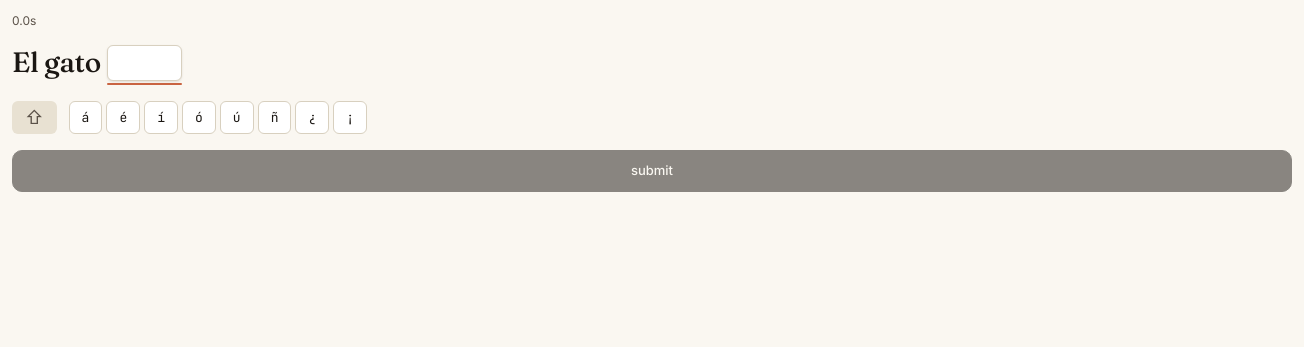
FluencyRunner › ignores a second submit click while the first is in flight
Step 1. Type "está" into the field → (144, 63), box [107,45,182,81]
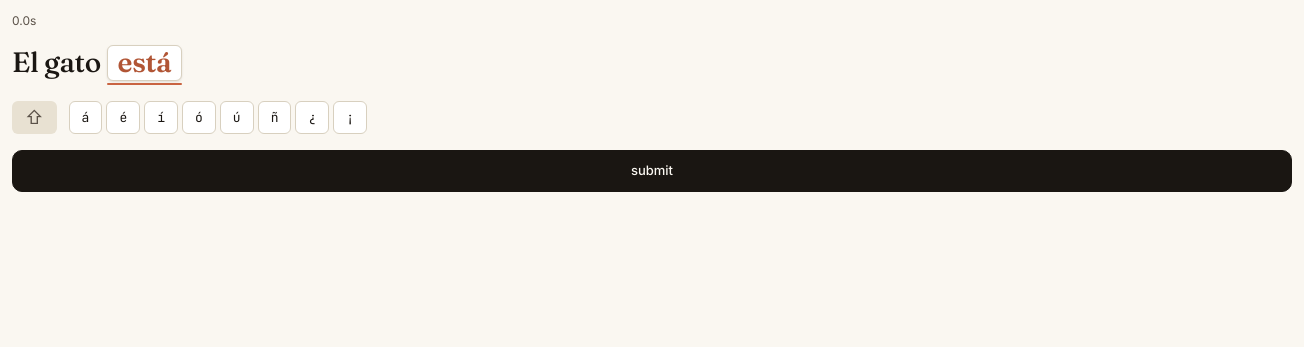
Step 2. Click the button "submit" → (652, 171), box [12,150,1292,192]
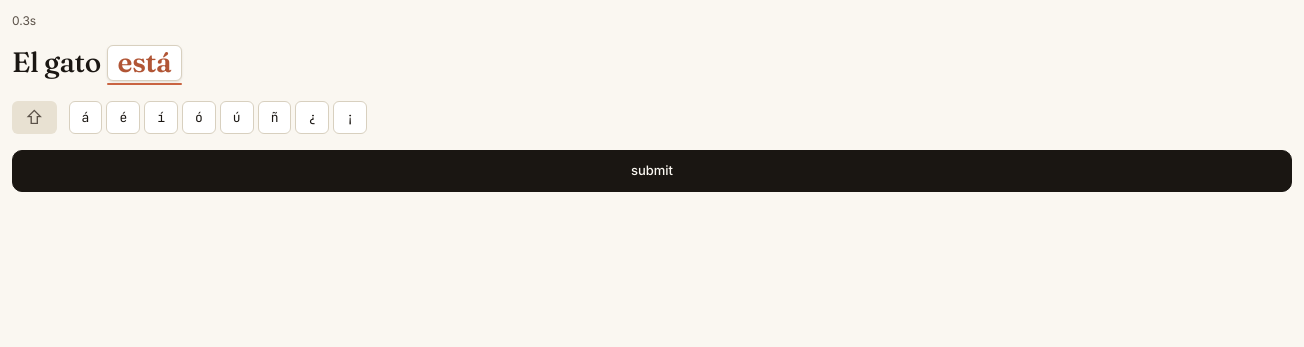
Step 3. Click the button "submit" → (652, 171), box [12,150,1292,192]
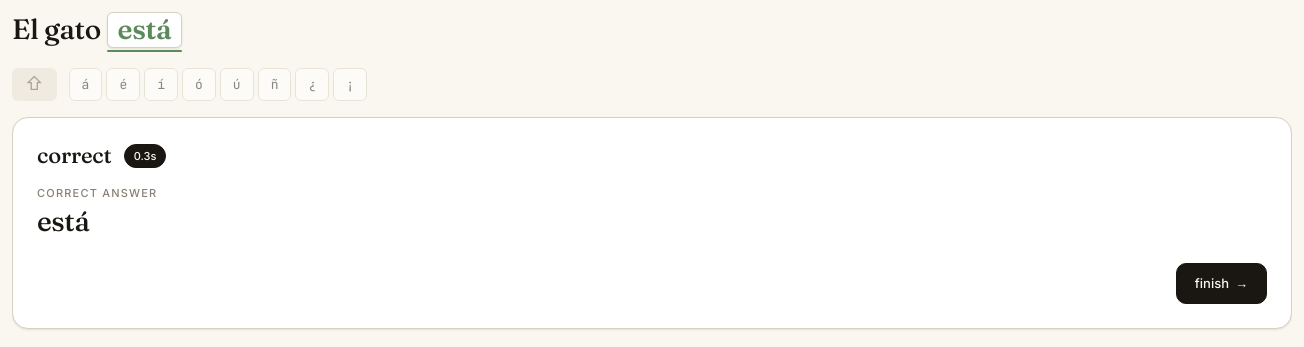
Now the message "correct 0.3s correct answer está finish →" is shown, box [12,117,1292,329]
